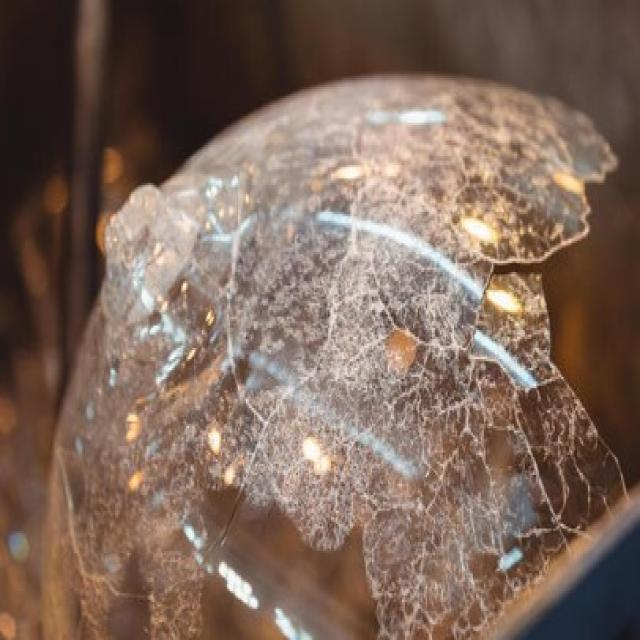electronic: (38, 77, 631, 640)
